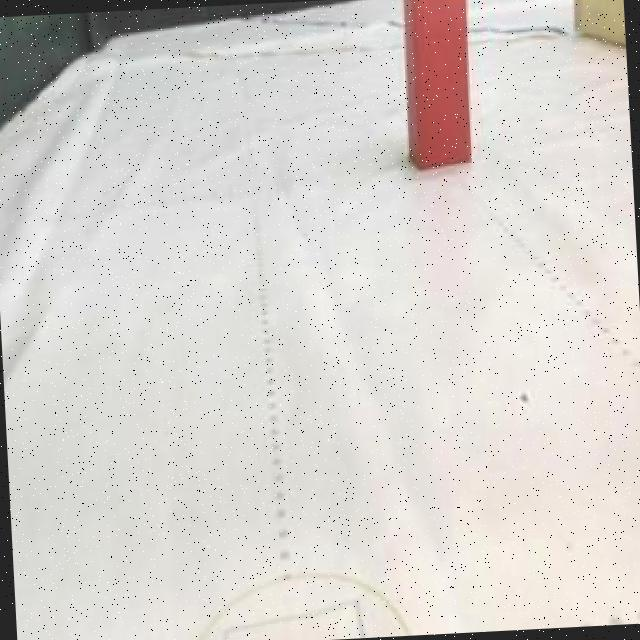redbox: (395, 0, 477, 169)
